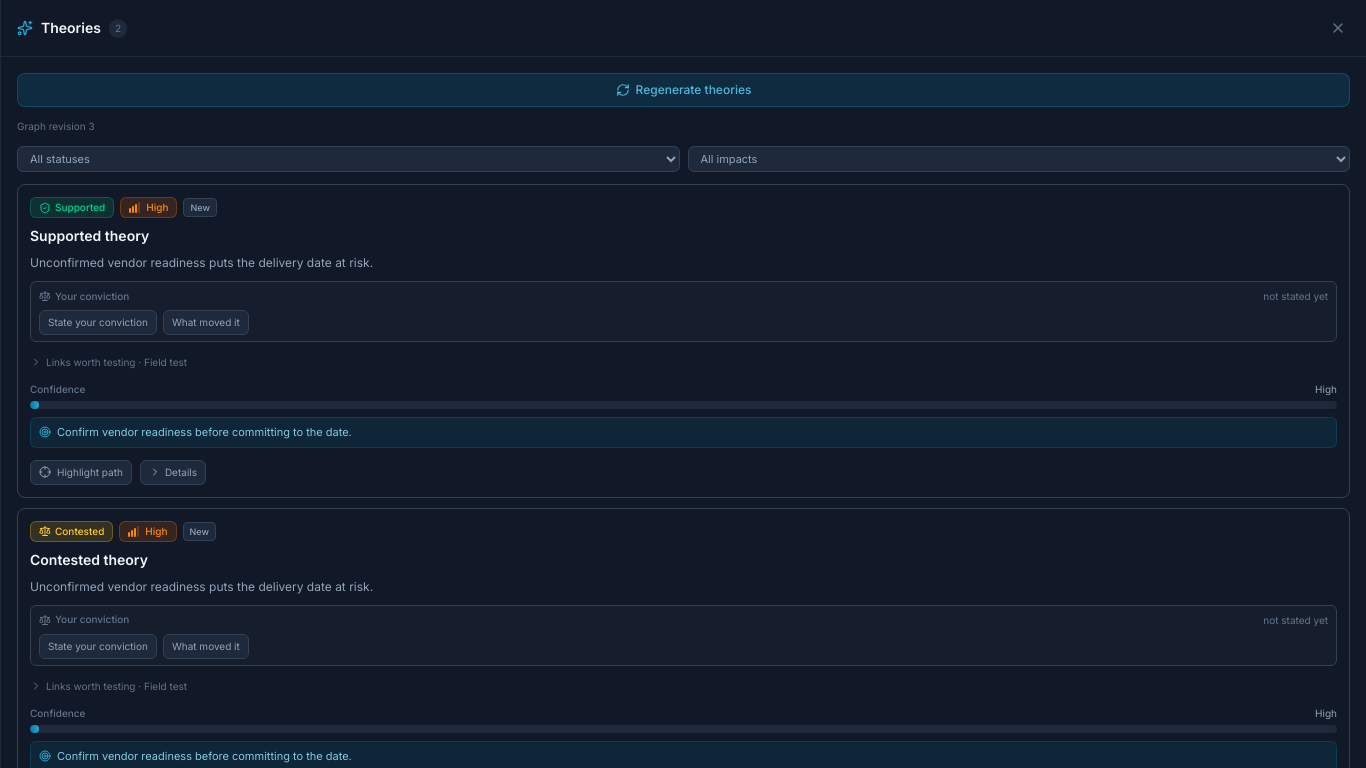
Test: TheoryPanel filtering › filters by status
Select "Contested" in the 1st dropdown named "filter by status" at (348, 159), box [17, 146, 680, 172]
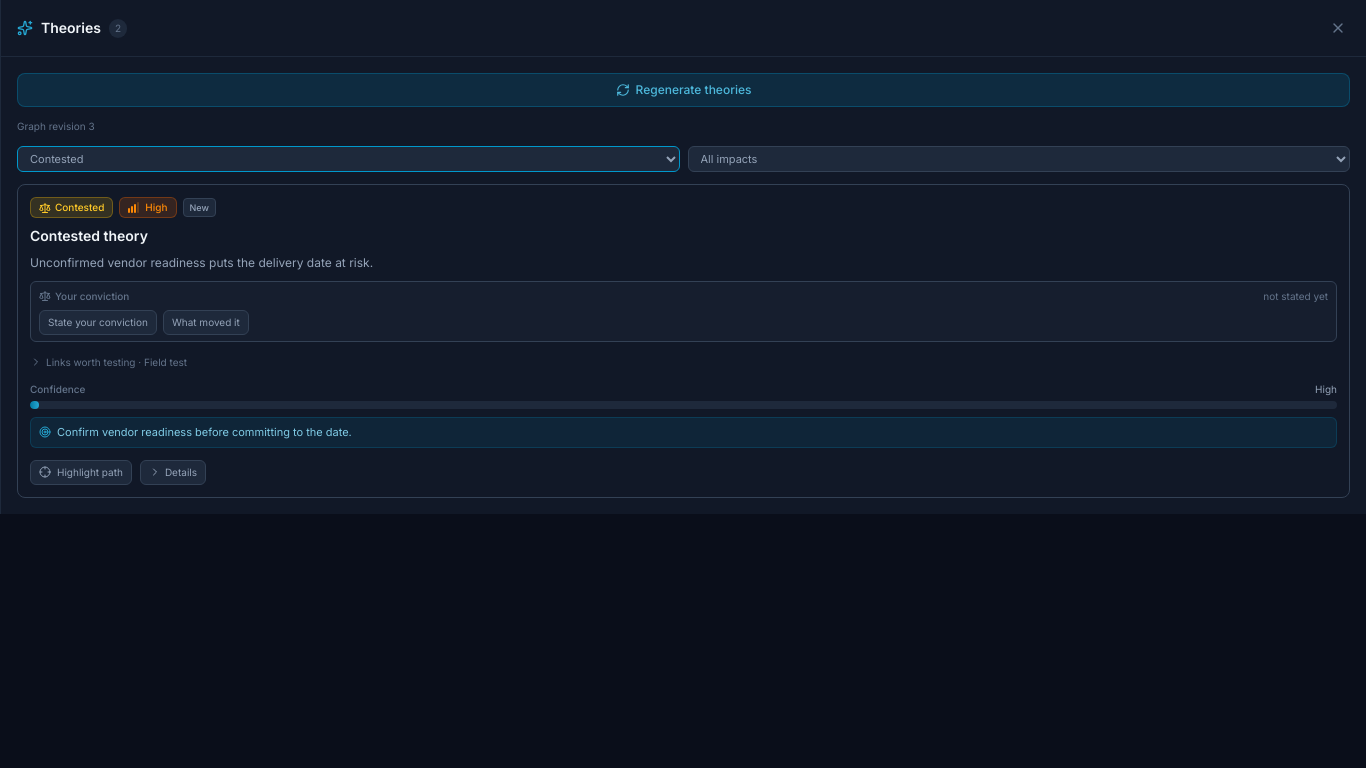
Expected: the heading "Contested theory" is shown, [30, 227, 148, 244]
Expected: the heading "Supported theory" is gone
